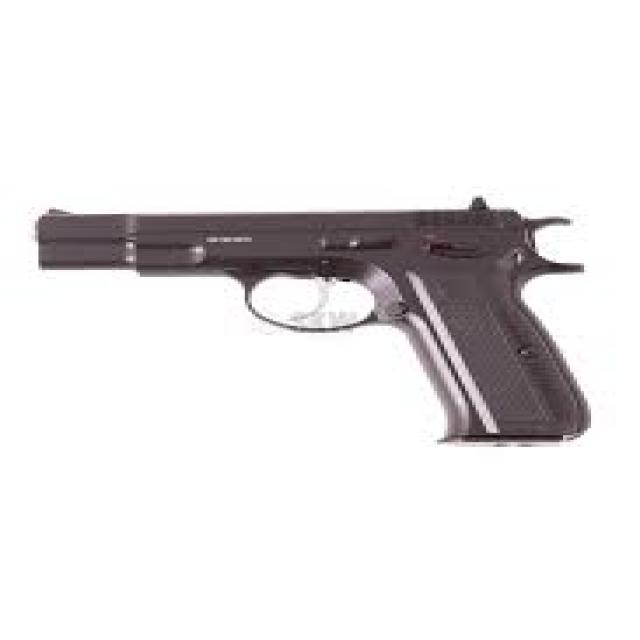pistol: (23, 193, 621, 453)
